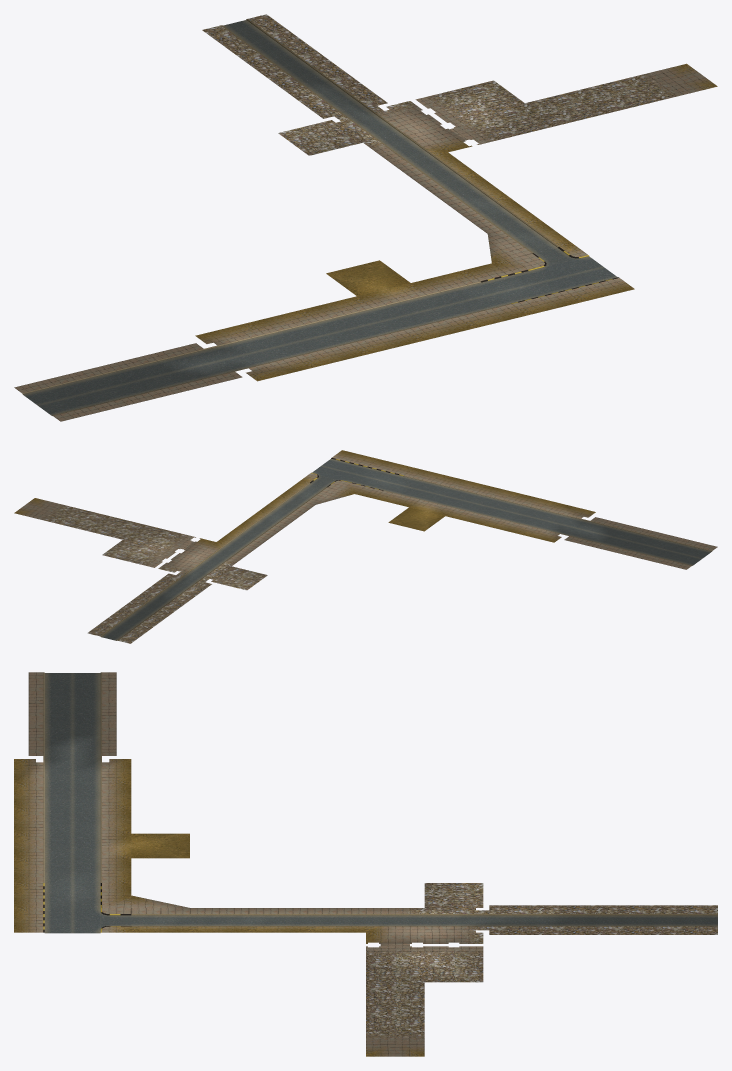
The model's file is M11Z1_Floor_Zone3.glb.
The picture shows the model from 3 angles, top to bottom: view 1: azimuth 30°, elevation 25°; view 2: azimuth 150°, elevation 25°; view 3: azimuth 270°, elevation 25°; orthographic projection. The views are drawn at different scales.
Parts seen in each view (by area): view 1: M11Z1_FLOOR_ZONE3018, M11Z1_FLOOR_ZONE3004, M11Z1_FLOOR_ZONE3016, M11Z1_FLOOR_ZONE3017, M11Z1_FLOOR_ZONE3037, M11Z1_FLOOR_ZONE3020, M11Z1_FLOOR_ZONE3036, M11Z1_FLOOR_ZONE3035, M11Z1_FLOOR_ZONE3005, M11Z1_FLOOR_ZONE3006, M11Z1_FLOOR_ZONE3008, M11Z1_FLOOR_ZONE3014 (+38 smaller); view 2: M11Z1_FLOOR_ZONE3004, M11Z1_FLOOR_ZONE3018, M11Z1_FLOOR_ZONE3035, M11Z1_FLOOR_ZONE3036, M11Z1_FLOOR_ZONE3006, M11Z1_FLOOR_ZONE3008, M11Z1_FLOOR_ZONE3037, M11Z1_FLOOR_ZONE3009, M11Z1_FLOOR_ZONE3007, M11Z1_FLOOR_ZONE3005, M11Z1_FLOOR_ZONE3016, M11Z1_FLOOR_ZONE3040 (+38 smaller); view 3: M11Z1_FLOOR_ZONE3018, M11Z1_FLOOR_ZONE3004, M11Z1_FLOOR_ZONE3040, M11Z1_FLOOR_ZONE3017, M11Z1_FLOOR_ZONE3020, M11Z1_FLOOR_ZONE3037, M11Z1_FLOOR_ZONE3006, M11Z1_FLOOR_ZONE3007, M11Z1_FLOOR_ZONE3016, M11Z1_FLOOR_ZONE3035, M11Z1_FLOOR_ZONE3036, M11Z1_FLOOR_ZONE3009 (+38 smaller).
Part boxes in pixels (x1,y1,x2,y2): M11Z1_FLOOR_ZONE3018: (384,270,468,312); M11Z1_FLOOR_ZONE3004: (253,339,364,370); M11Z1_FLOOR_ZONE3016: (249,307,371,339); M11Z1_FLOOR_ZONE3017: (304,289,414,326); M11Z1_FLOOR_ZONE3037: (610,70,690,112); M11Z1_FLOOR_ZONE3020: (492,251,576,286); M11Z1_FLOOR_ZONE3036: (556,77,632,125); M11Z1_FLOOR_ZONE3035: (502,90,578,138); M11Z1_FLOOR_ZONE3005: (307,326,418,354); M11Z1_FLOOR_ZONE3006: (361,313,472,341); M11Z1_FLOOR_ZONE3008: (469,287,580,315); M11Z1_FLOOR_ZONE3014: (176,322,252,365); M11Z1_FLOOR_ZONE3004: (521,494,582,523); M11Z1_FLOOR_ZONE3018: (373,488,447,511); M11Z1_FLOOR_ZONE3035: (87,524,179,539); M11Z1_FLOOR_ZONE3036: (51,515,142,530); M11Z1_FLOOR_ZONE3006: (448,476,494,505); M11Z1_FLOOR_ZONE3008: (376,459,421,487); M11Z1_FLOOR_ZONE3037: (32,502,106,521); M11Z1_FLOOR_ZONE3009: (340,450,385,478); M11Z1_FLOOR_ZONE3007: (412,468,458,496); M11Z1_FLOOR_ZONE3005: (485,485,530,514); M11Z1_FLOOR_ZONE3016: (456,506,520,533); M11Z1_FLOOR_ZONE3040: (193,562,267,581); M11Z1_FLOOR_ZONE3018: (72,846,131,882); M11Z1_FLOOR_ZONE3004: (14,762,72,808); M11Z1_FLOOR_ZONE3040: (424,883,488,920); M11Z1_FLOOR_ZONE3017: (72,809,131,846); M11Z1_FLOOR_ZONE3020: (72,895,131,920); M11Z1_FLOOR_ZONE3037: (366,1007,424,1044); M11Z1_FLOOR_ZONE3006: (14,821,72,857); M11Z1_FLOOR_ZONE3007: (14,846,72,882); M11Z1_FLOOR_ZONE3016: (72,784,131,832); M11Z1_FLOOR_ZONE3035: (366,957,424,1006); M11Z1_FLOOR_ZONE3036: (366,982,424,1031); M11Z1_FLOOR_ZONE3009: (14,895,72,932).
Size of the model in its own units: 124 by 0.1 by 96.
13 materials, 13 textured.
